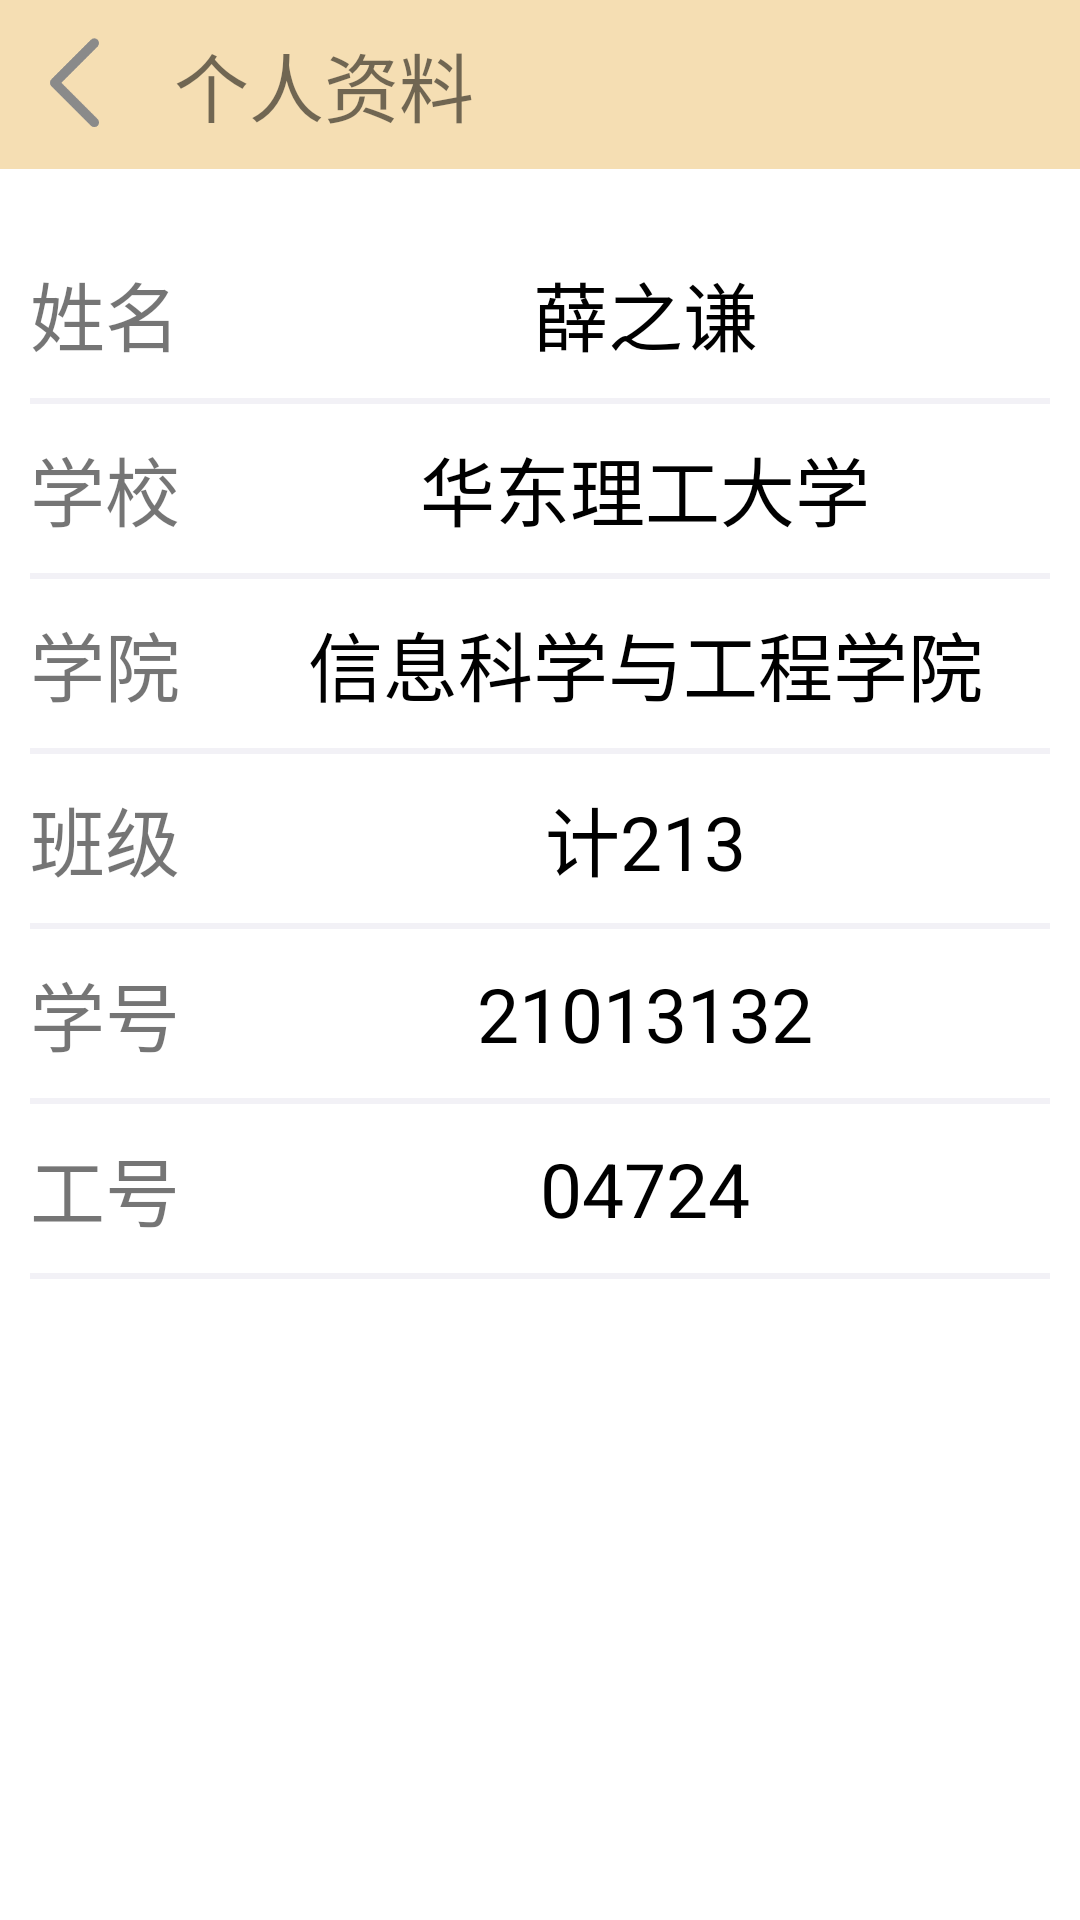

Screen size 1080 x 1920. Icon name, then its center in pixels as (x,y):
back: (74,82)
